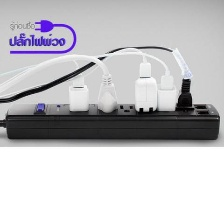three_eye_plug: (0, 100, 223, 144)
